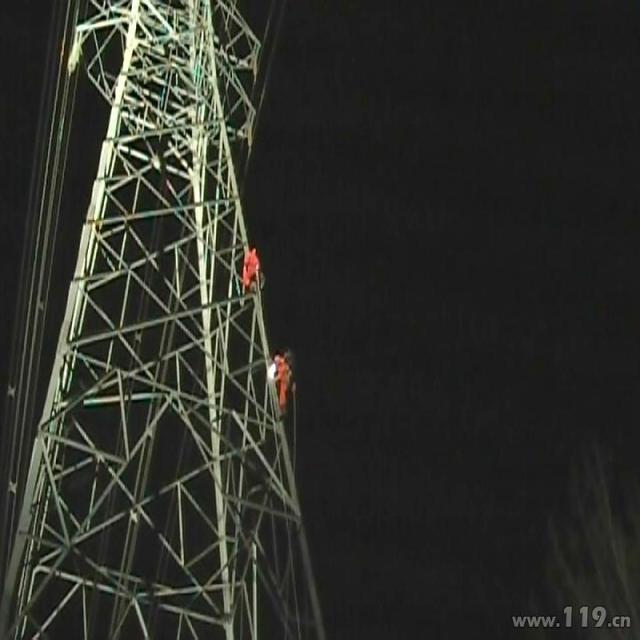non-critical vegetation: (4, 6, 340, 633)
